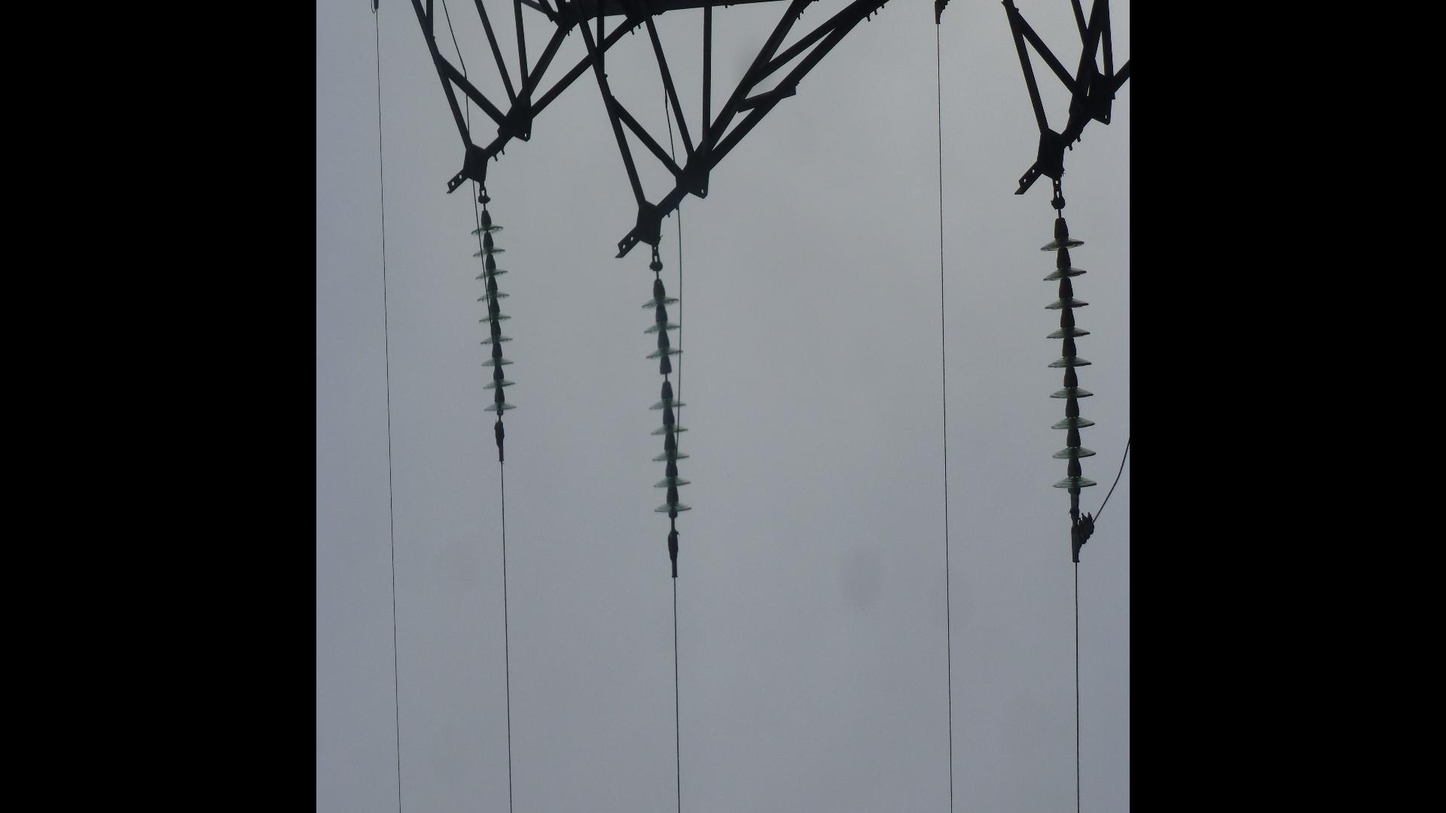insulator: (1037, 234, 1099, 495), (638, 293, 697, 519), (465, 222, 524, 417)
insulator_stringdrop: (642, 343, 690, 416)
